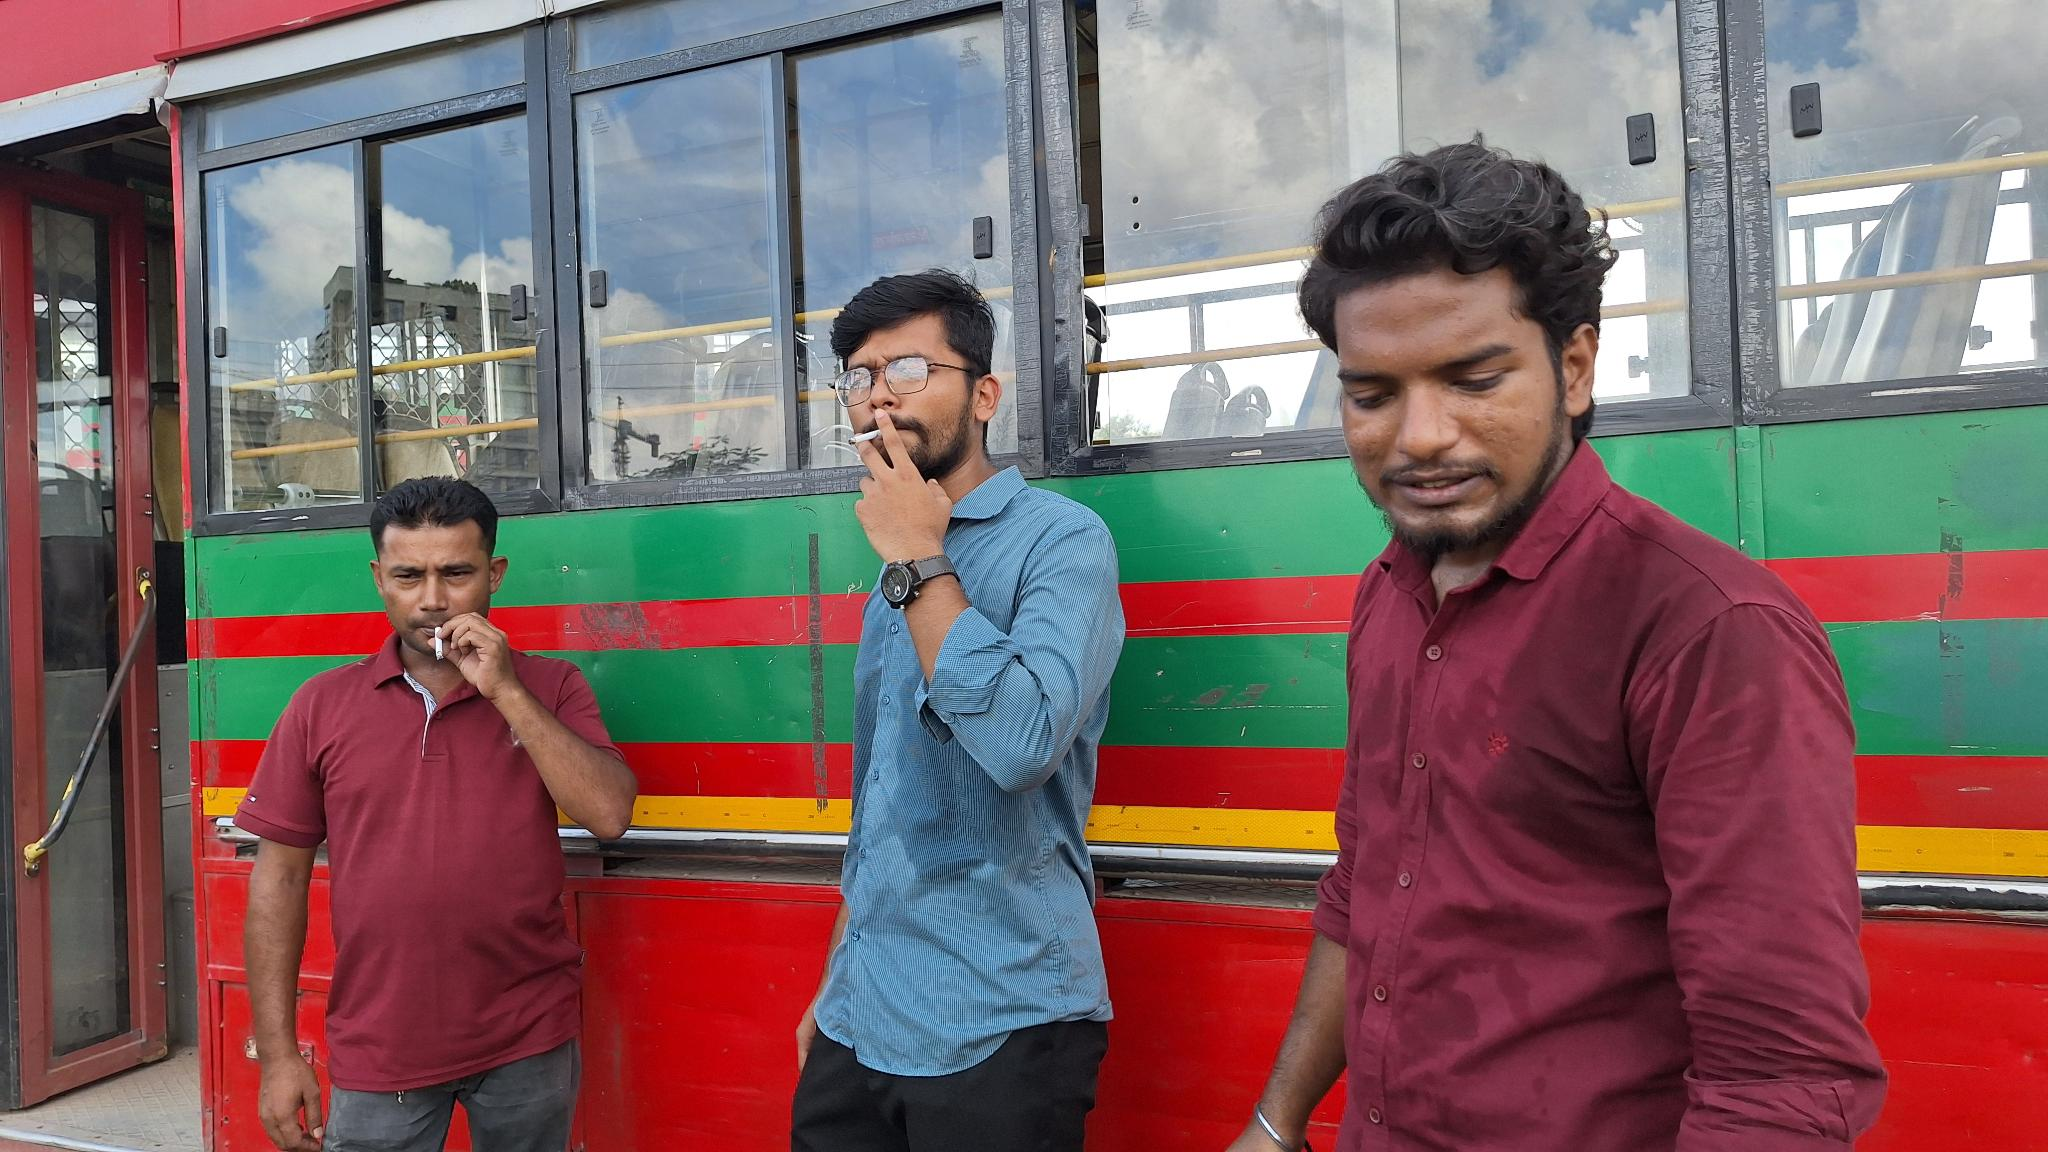cigarette: (847, 429, 883, 447), (433, 625, 444, 663)
nonSmoker: (1234, 149, 1882, 1152)
smoker: (791, 271, 1127, 1152), (242, 477, 629, 1152)
